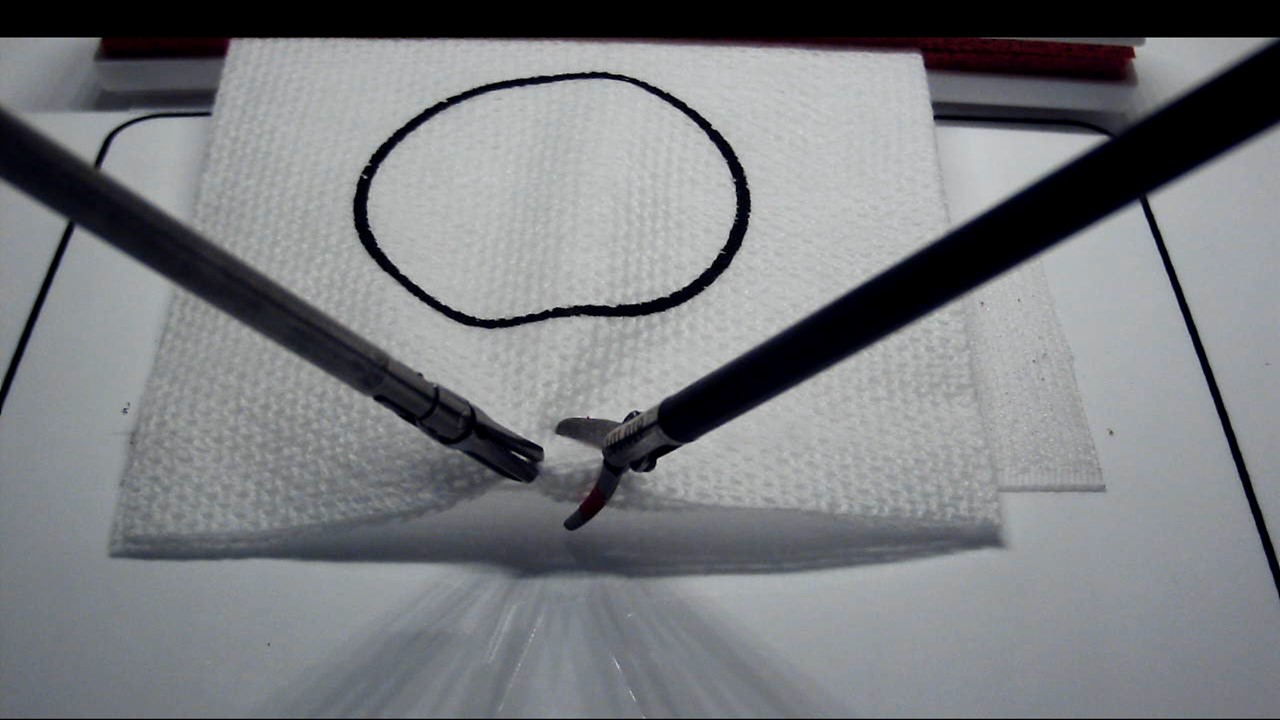Circle: (352, 69, 753, 330)
Grasper: (463, 406, 545, 485)
Scissor: (556, 418, 623, 532)
